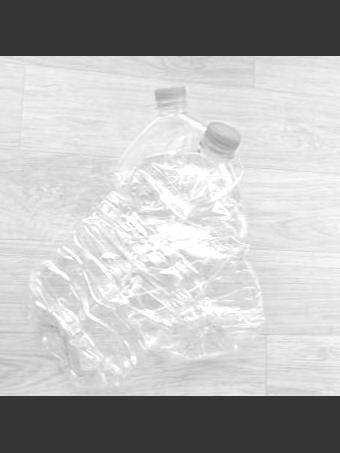bottle: (29, 125, 244, 391)
